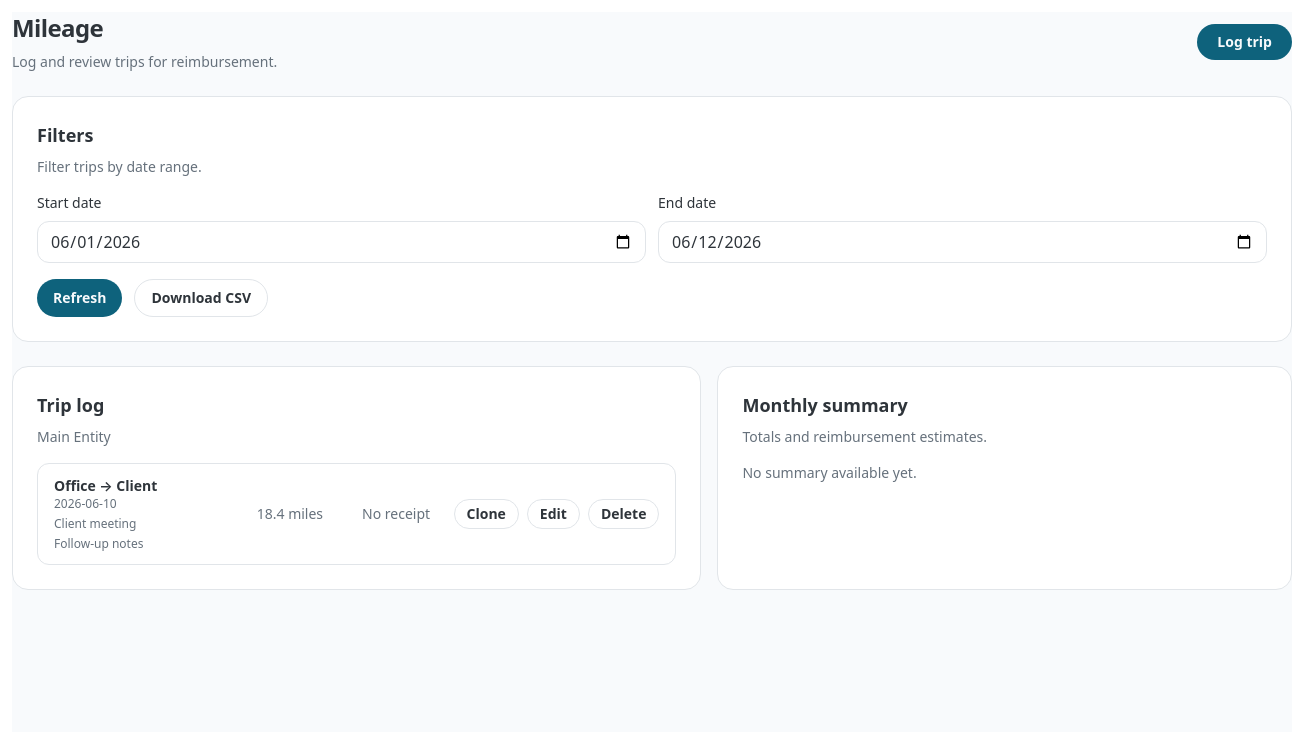
it: Mileage page › clones a mileage entry into a new trip form with today's date
The width and height of the screenshot is (1304, 732).
Expected: the text "Office → Client" is shown, [54, 476, 157, 495]
Click the button "Clone". click: (486, 514)
box: [454, 499, 519, 529]
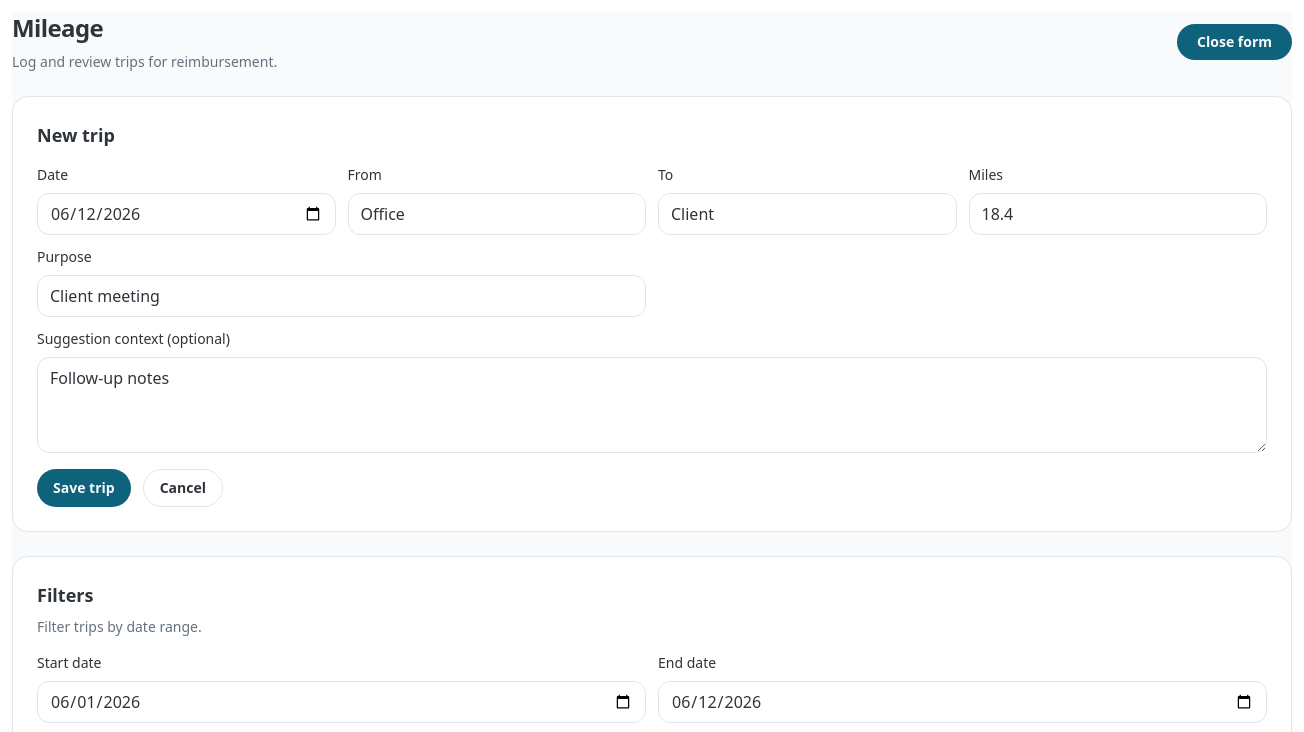
Expected: the heading "New trip" is shown, [37, 123, 115, 147]
Expected: the date field labelled "Date" holds "2026-06-12", [37, 193, 336, 235]
Expected: the field labelled "From" holds "Office", [348, 193, 646, 235]
